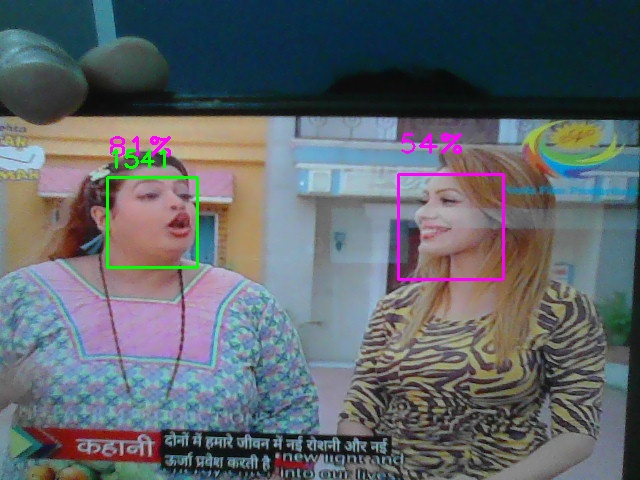fake: (107, 177, 198, 268)
